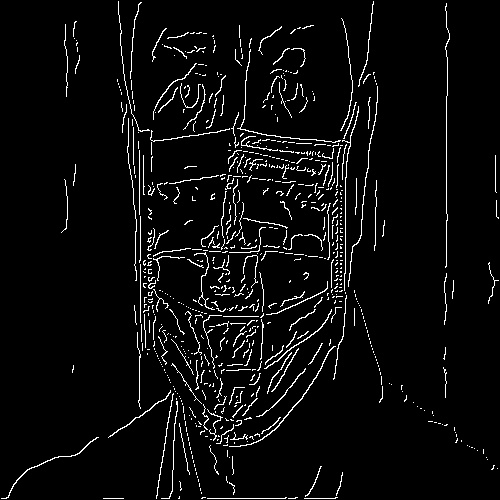mask: (125, 128, 359, 444)
